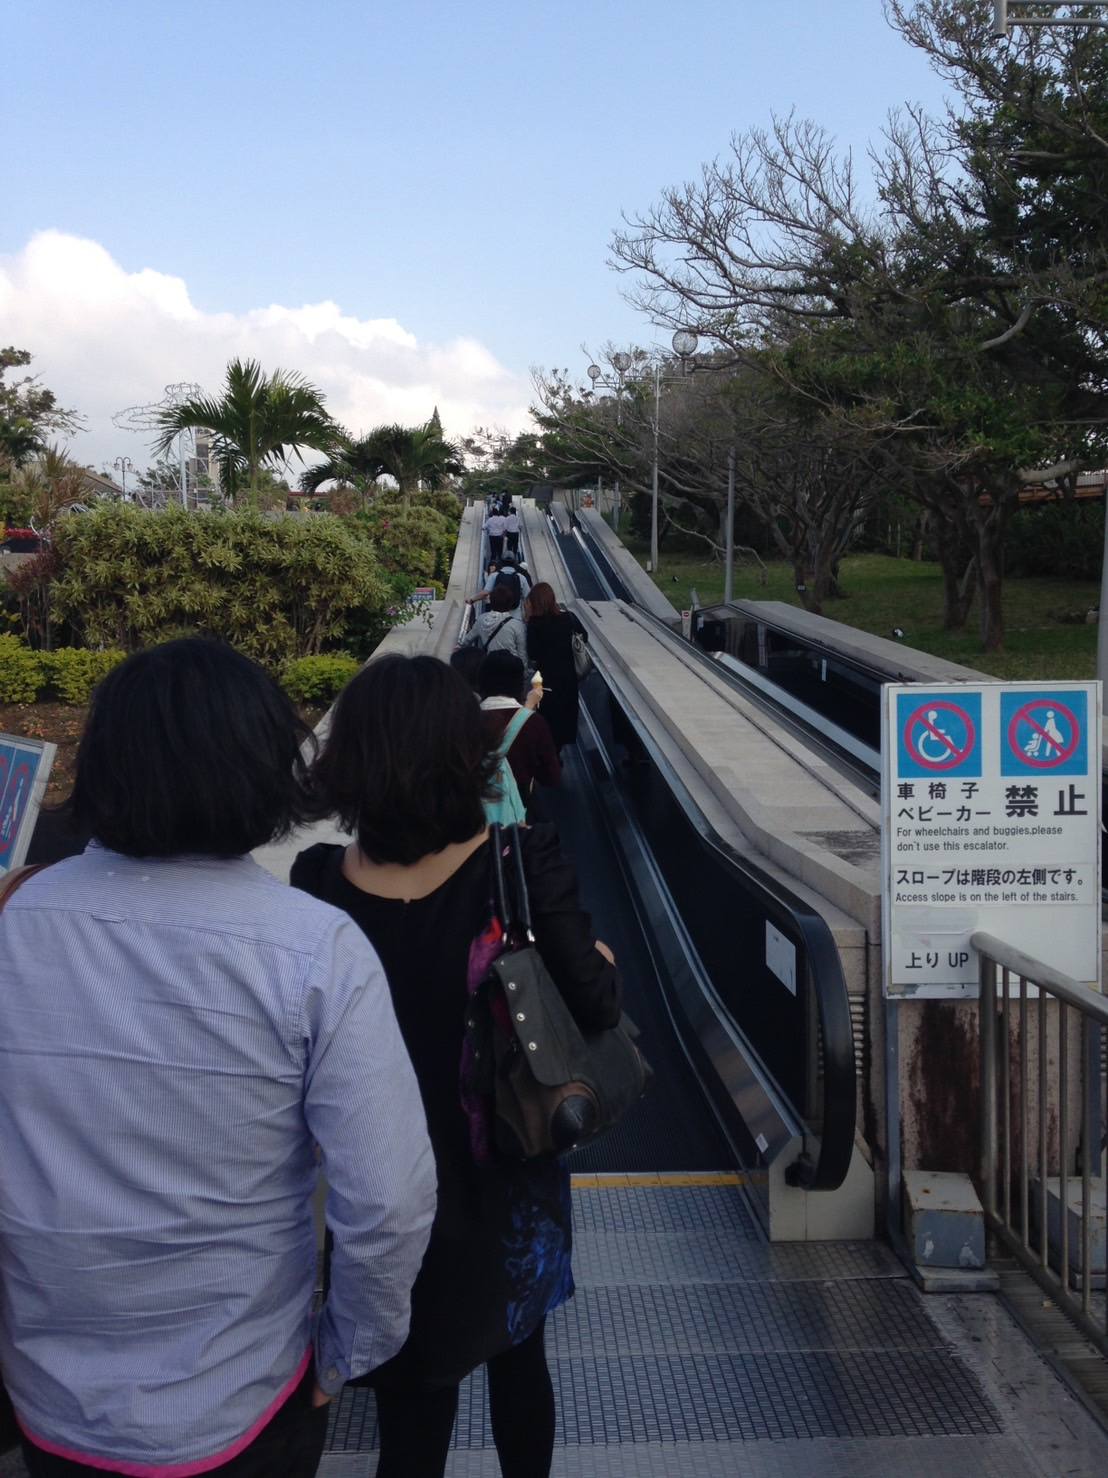female: (299, 649, 618, 1478), (476, 648, 562, 824), (460, 587, 531, 651), (528, 580, 585, 655)
male: (1, 641, 435, 1478)
